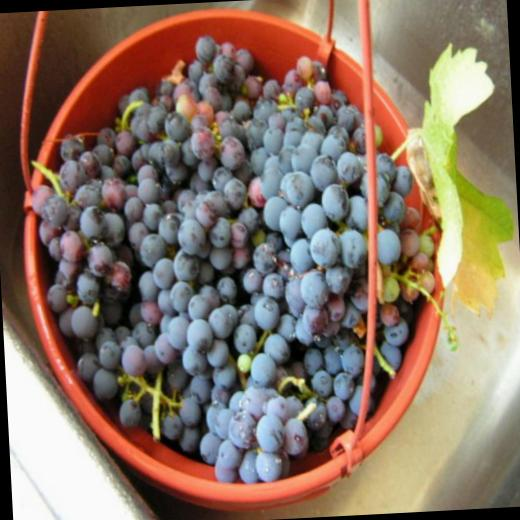Orange: (24, 24, 446, 492)
